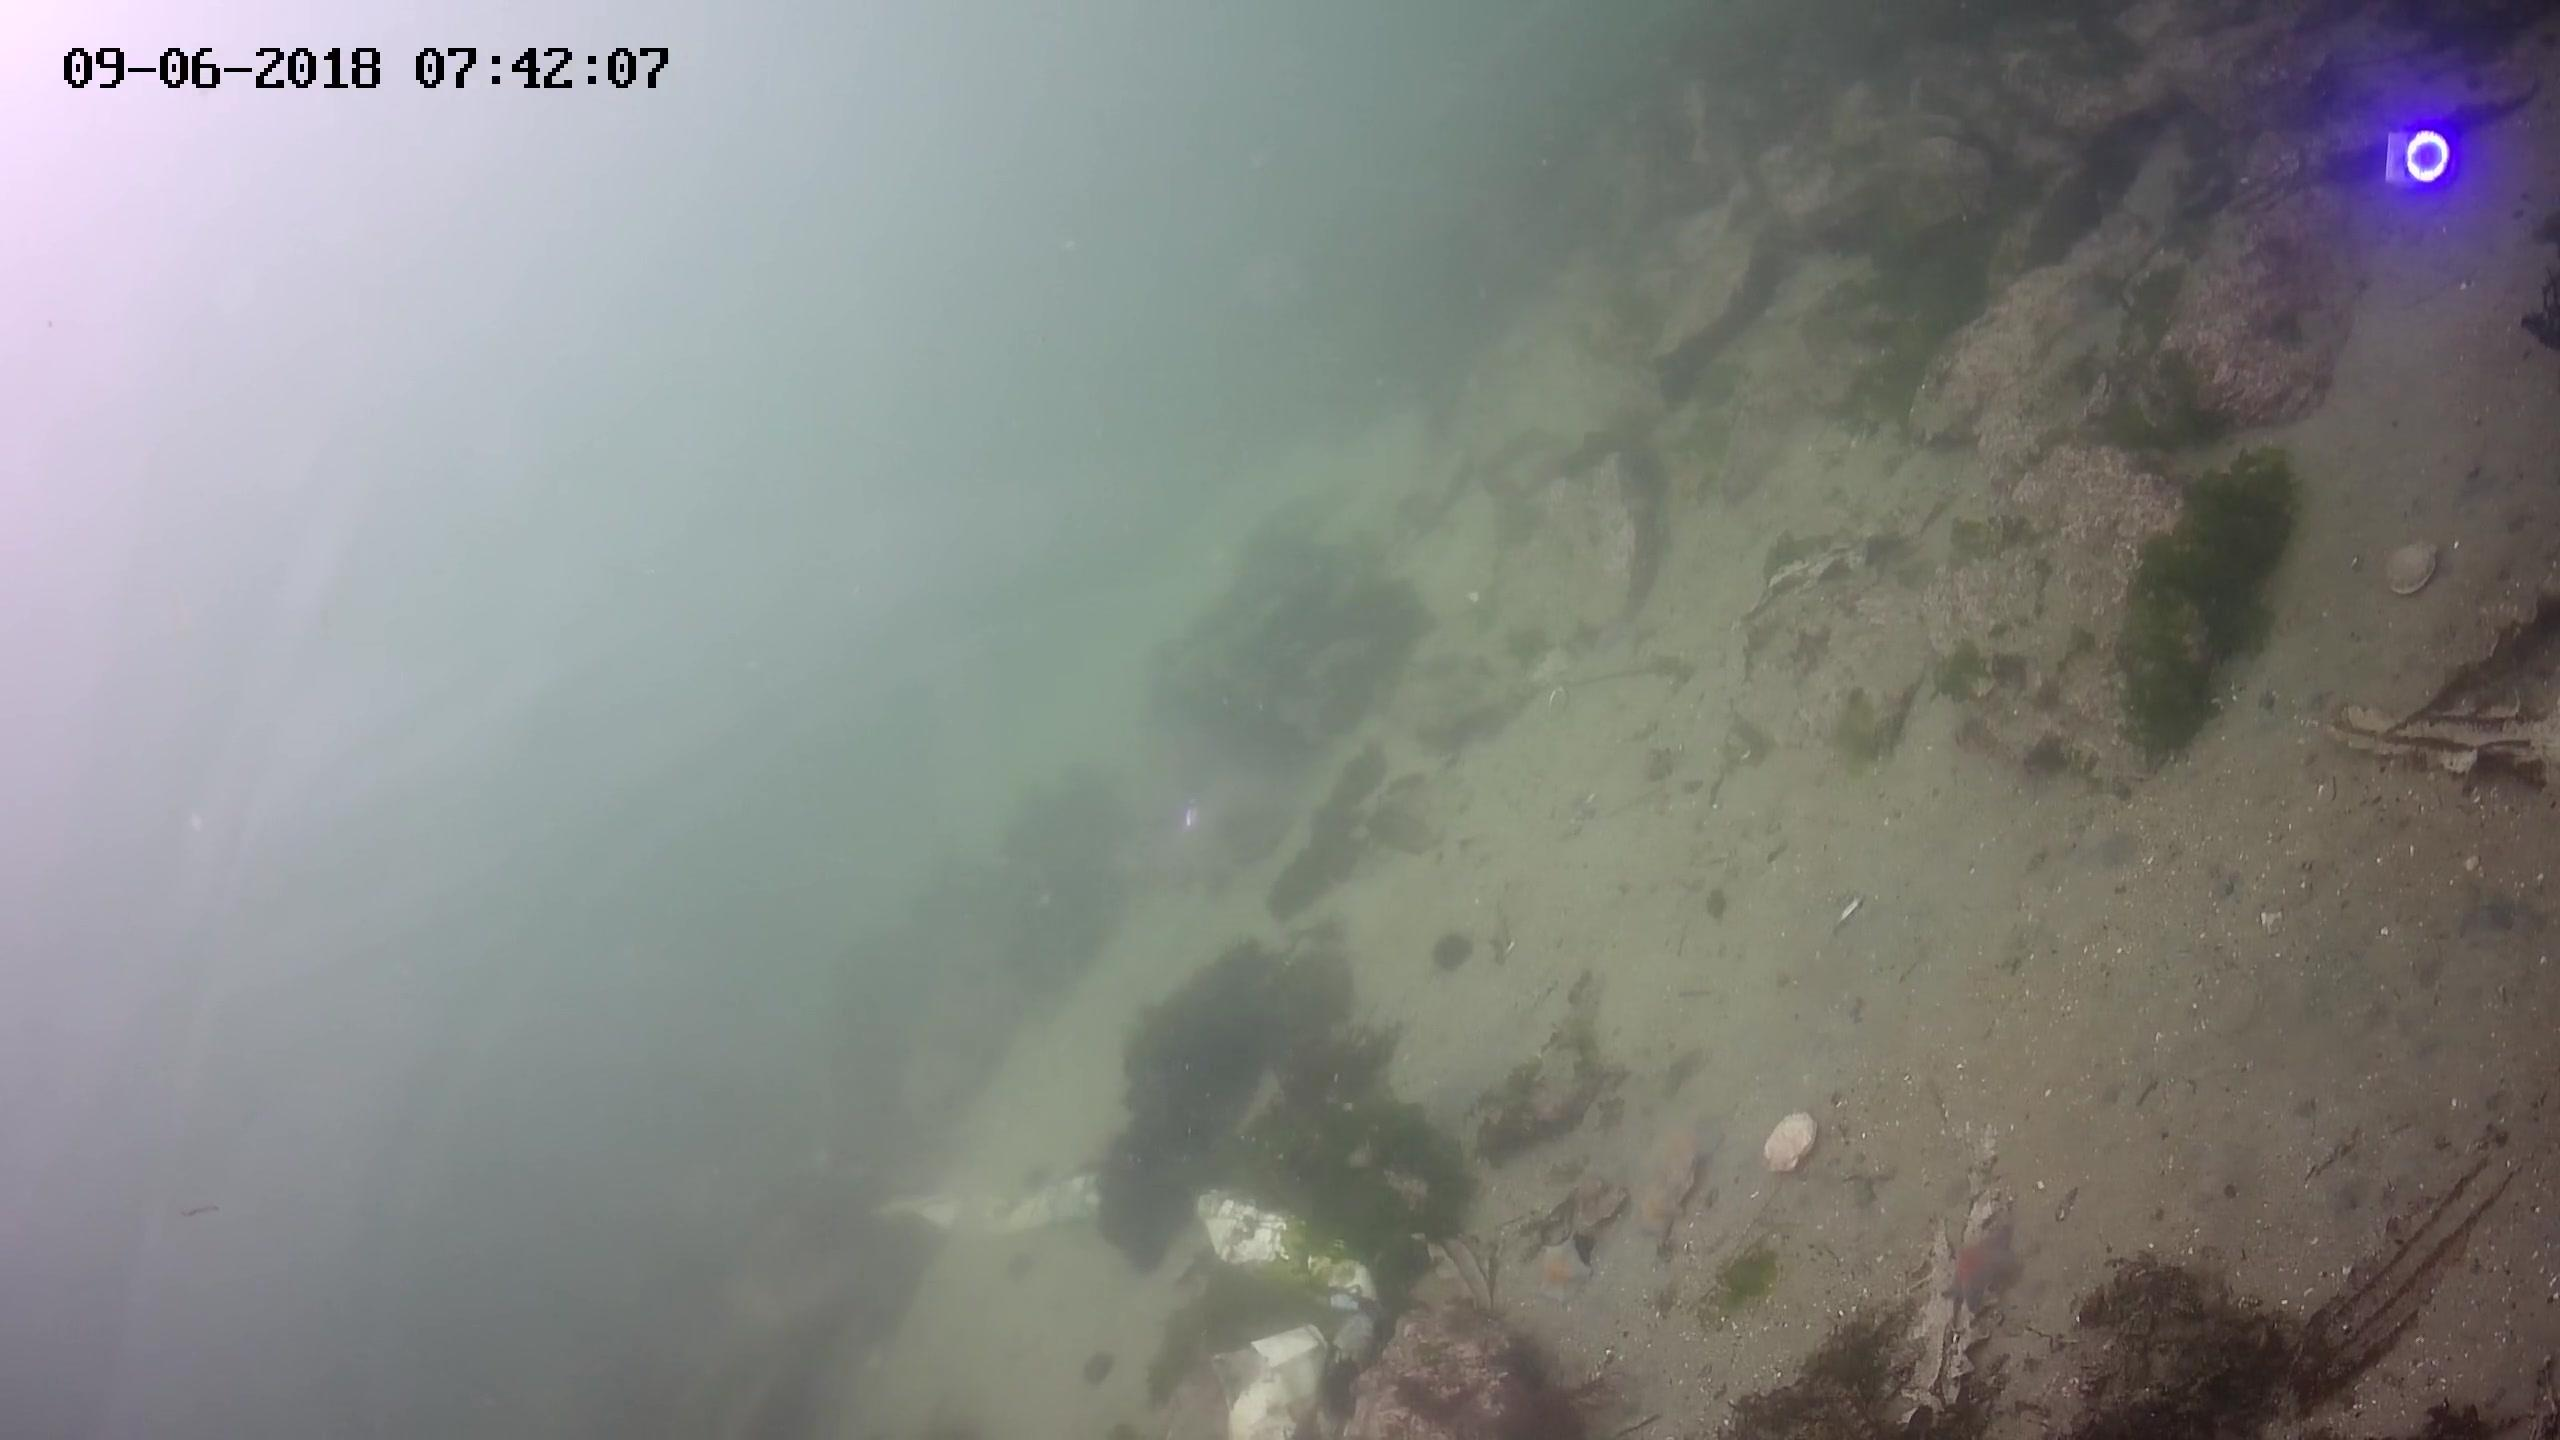echinus: (1428, 925, 1475, 972)
scallop: (2375, 531, 2440, 596), (1764, 1111, 1820, 1173), (1572, 1171, 1632, 1225)
starfish: (1626, 1129, 1728, 1233), (1943, 1220, 2027, 1305), (1530, 1240, 1581, 1294)
